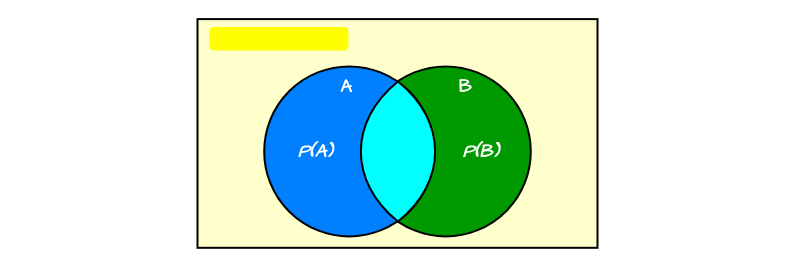
This 788x266 diagram has some shape labels left out. The shapes that lost their labels are listed below. From the top down, each one's centre as x and y in pixels, then its label:
pixel 278 38: Sample Space
pixel 397 151: P( A∩B)
